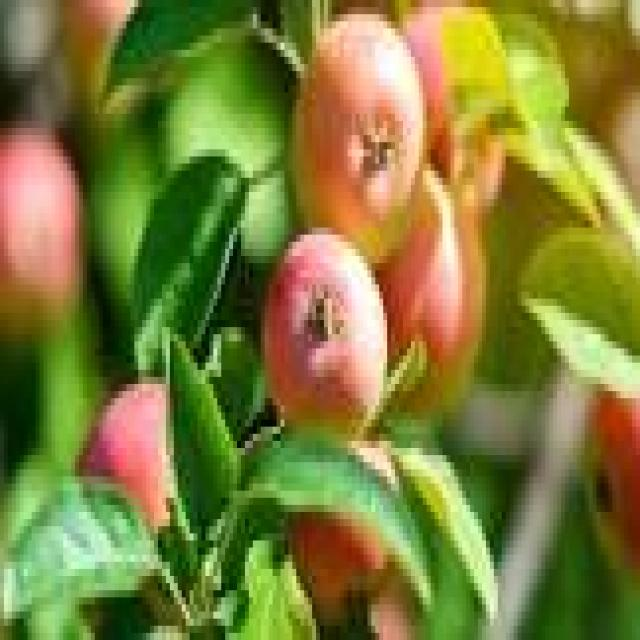apple: (289, 14, 428, 271), (262, 225, 389, 439), (373, 171, 464, 377)
